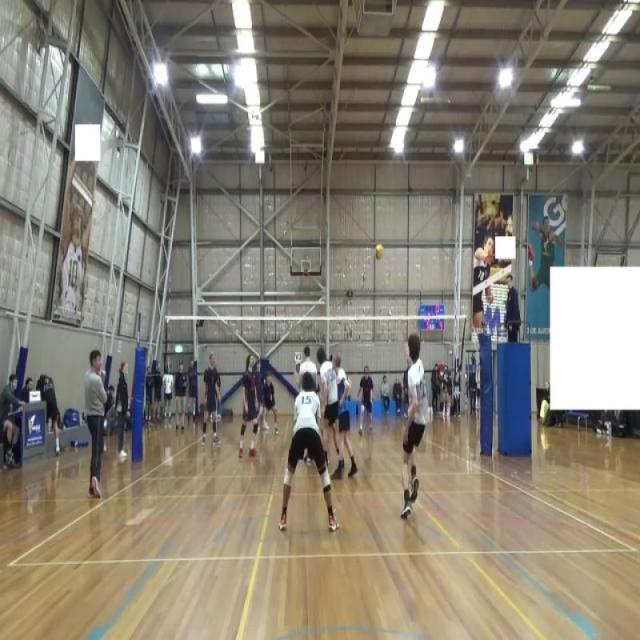volleyball: (373, 242, 385, 262)
